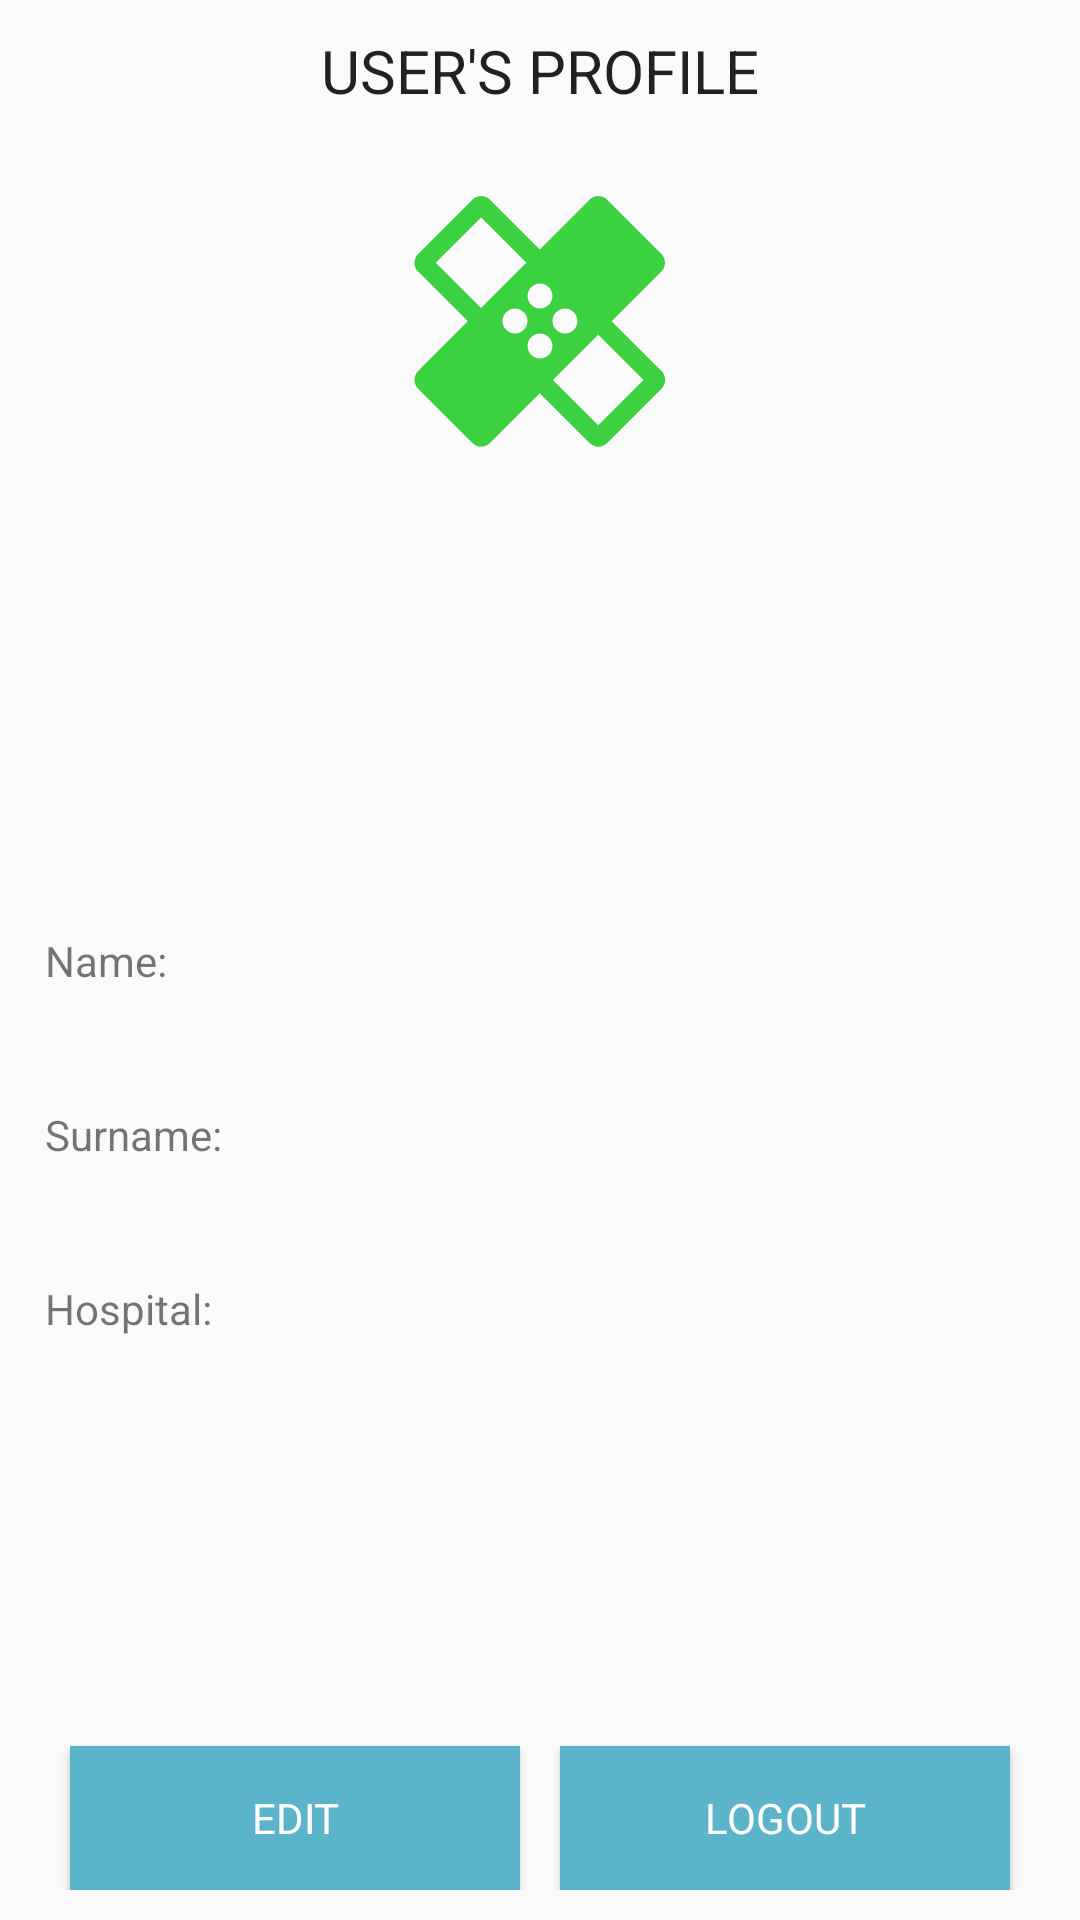

Point at icon controls on the screen. Image size 1080px x 1920px, points as (x,y).
healing: (539,321)
